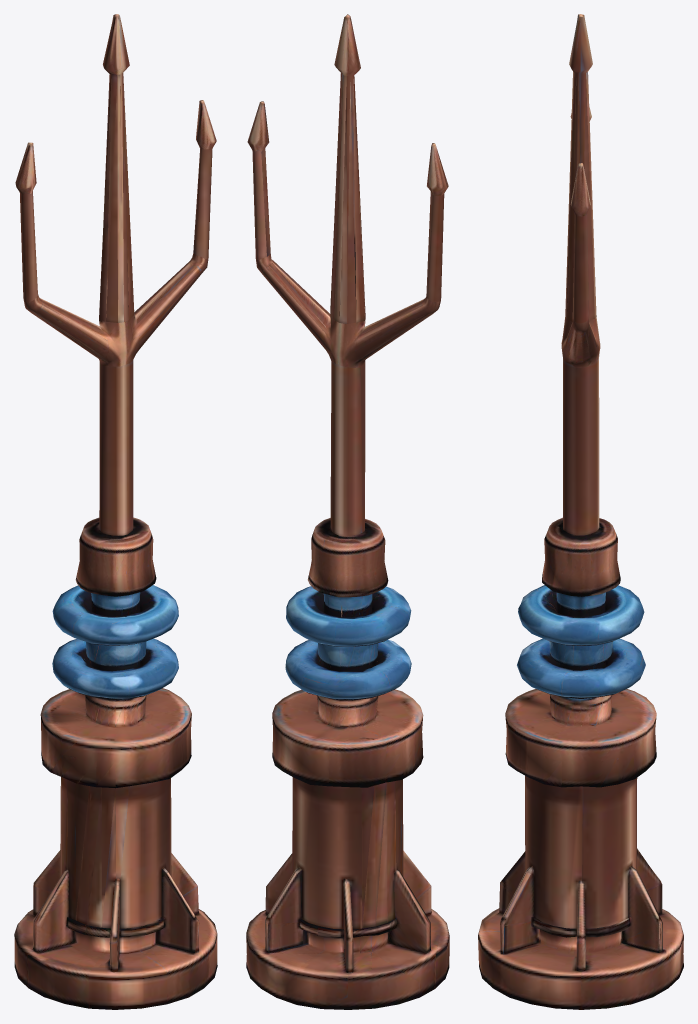
File: storm-rod.glb
3 renders of one model, left to right at view 1: azimuth 30°, elevation 25°; view 2: azimuth 150°, elevation 25°; view 3: azimuth 270°, elevation 25°, orthographic.
Bounding box in the file's own units: 0.875 × 4 × 0.7832.
Materials: 1 (1 with a texture image).
